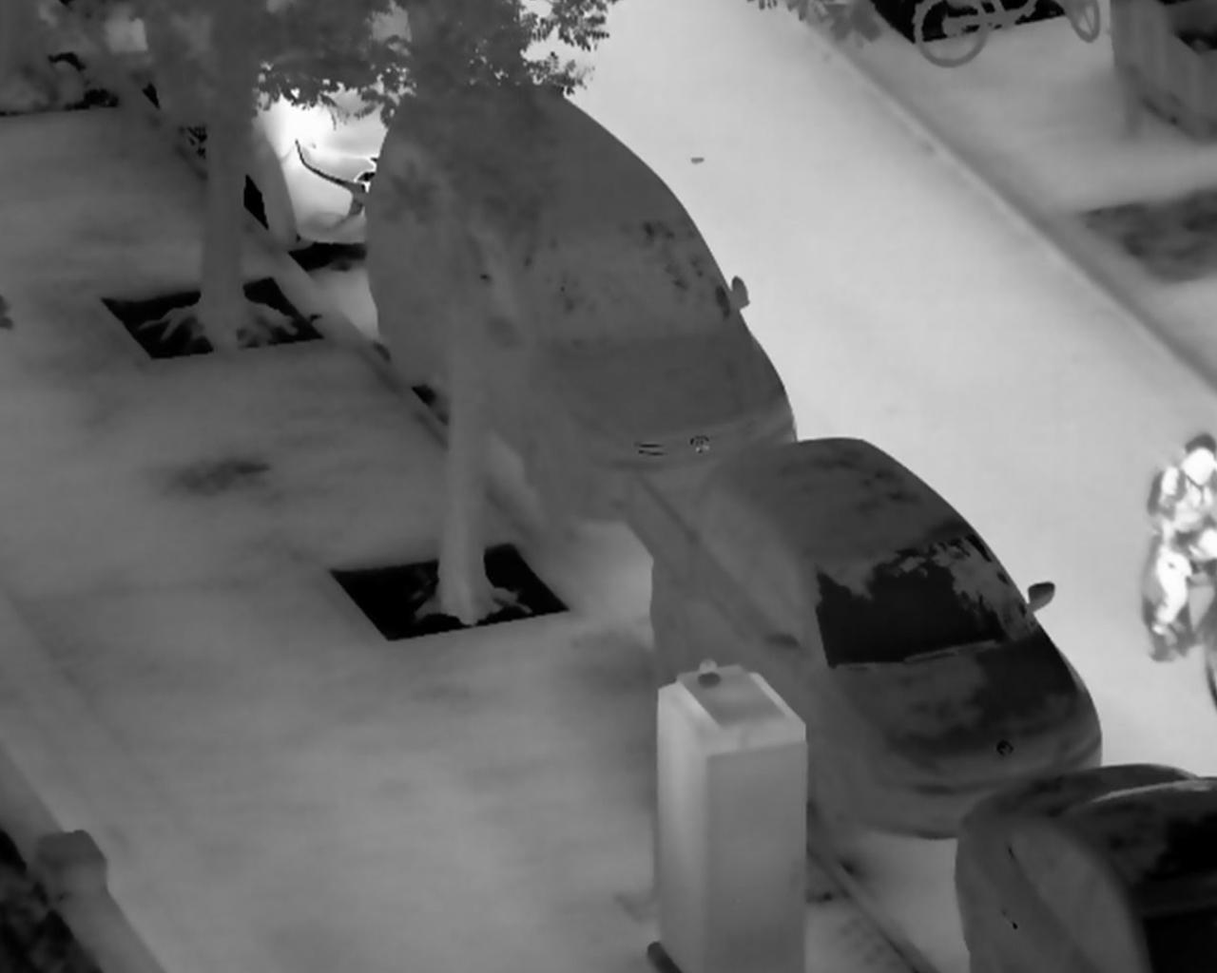person: (1148, 432, 1217, 661)
